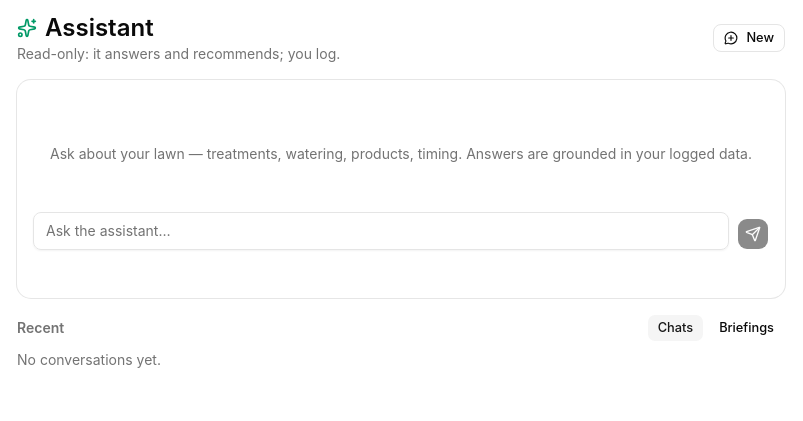
Test: ChatPanel › on failure shows the API's error, keeps the draft, and fabricates nothing
Type "Doomed question" into the text box named "Message" at (381,231), box [33,212,729,250]
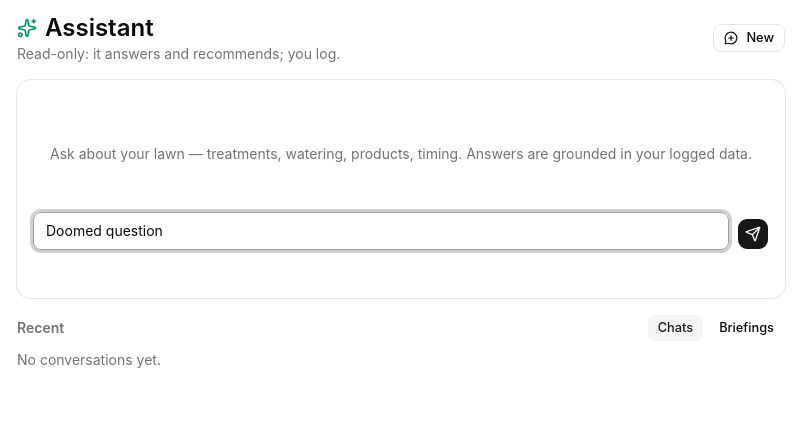
Click the button named "Send" at (753,234), box [737,218,769,250]
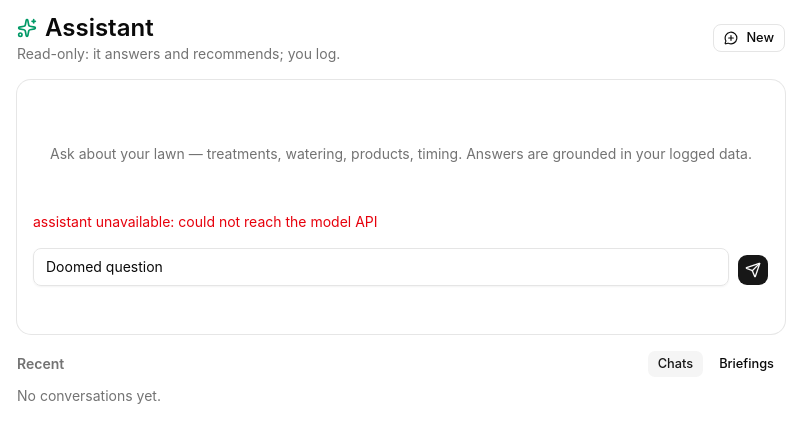
expect the message reads "assistant unavailable: could not reach the model API": met, box [33,213,378,230]
